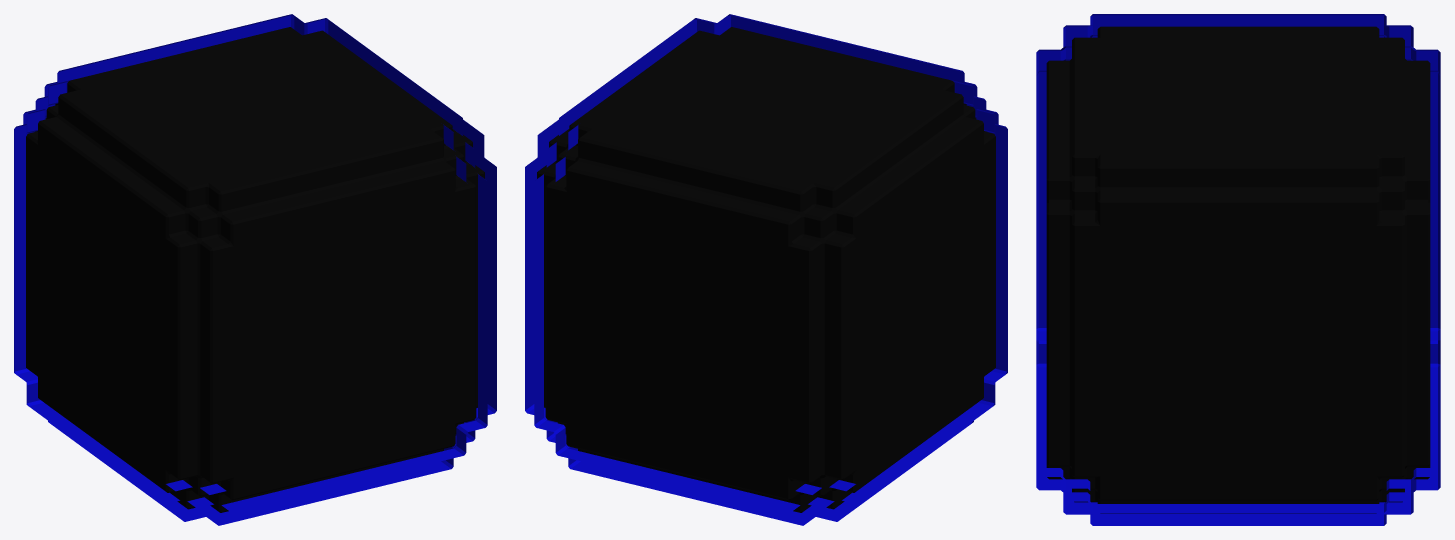
Rendered from Retro Base.fbx.
The picture shows the model from 3 angles, left to right: view 1: azimuth 30°, elevation 25°; view 2: azimuth 150°, elevation 25°; view 3: azimuth 270°, elevation 25°; orthographic projection. The views are drawn at different scales.
Parts seen in each view (by area): view 1: Cube, Outline; view 2: Cube, Outline; view 3: Cube, Outline.
Part boxes in pixels (x1,y1,x2,y2): Cube: [26, 27, 484, 512]; Outline: [14, 14, 496, 525]; Cube: [537, 27, 995, 512]; Outline: [525, 14, 1007, 525]; Cube: [1046, 26, 1430, 513]; Outline: [1036, 14, 1440, 525].
Size of the model in its own units: 104 by 104 by 104.
